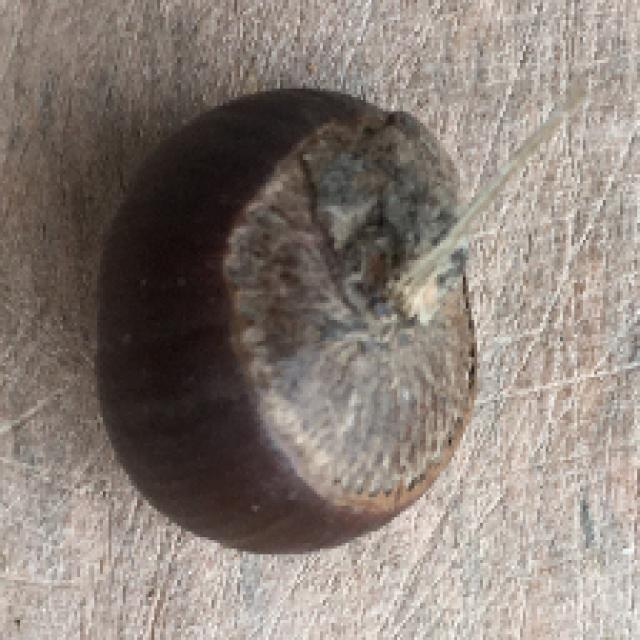DamagedHazelnut: (91, 87, 485, 559)
